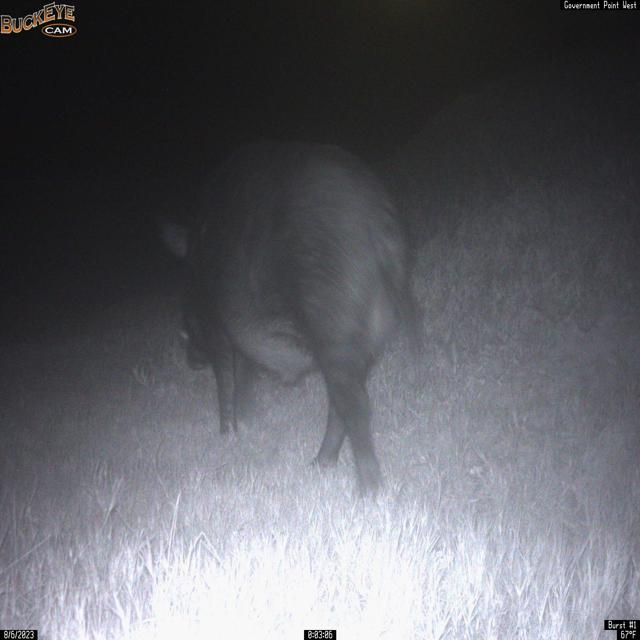pig: (156, 136, 427, 501)
